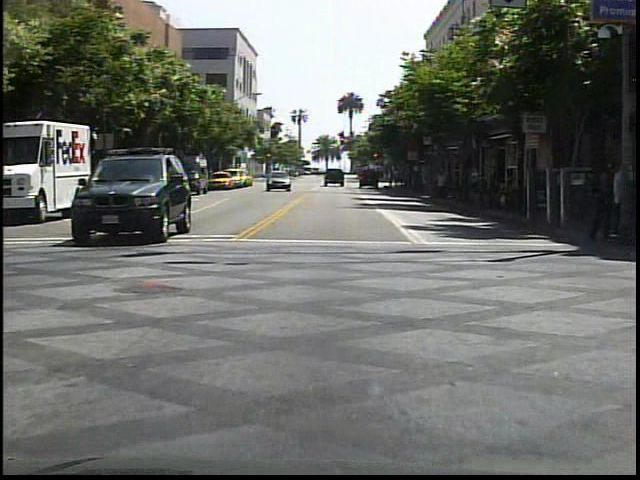person: (582, 153, 616, 243)
